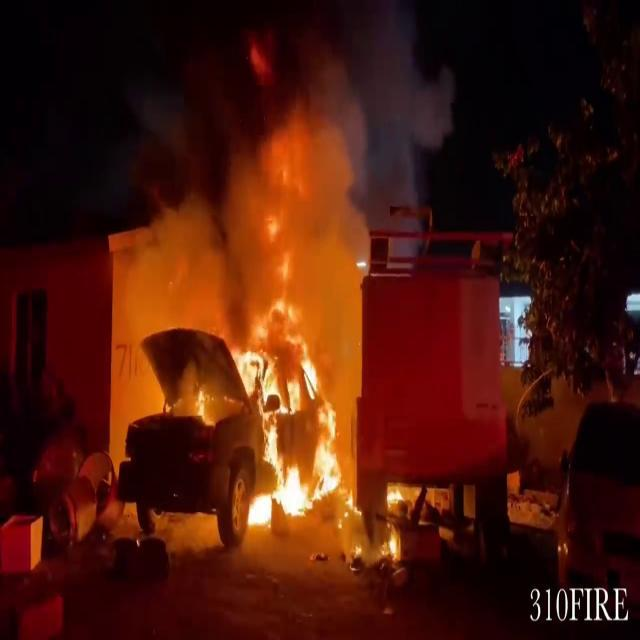Fire: (220, 205, 356, 526)
Smoke: (179, 25, 389, 282)
